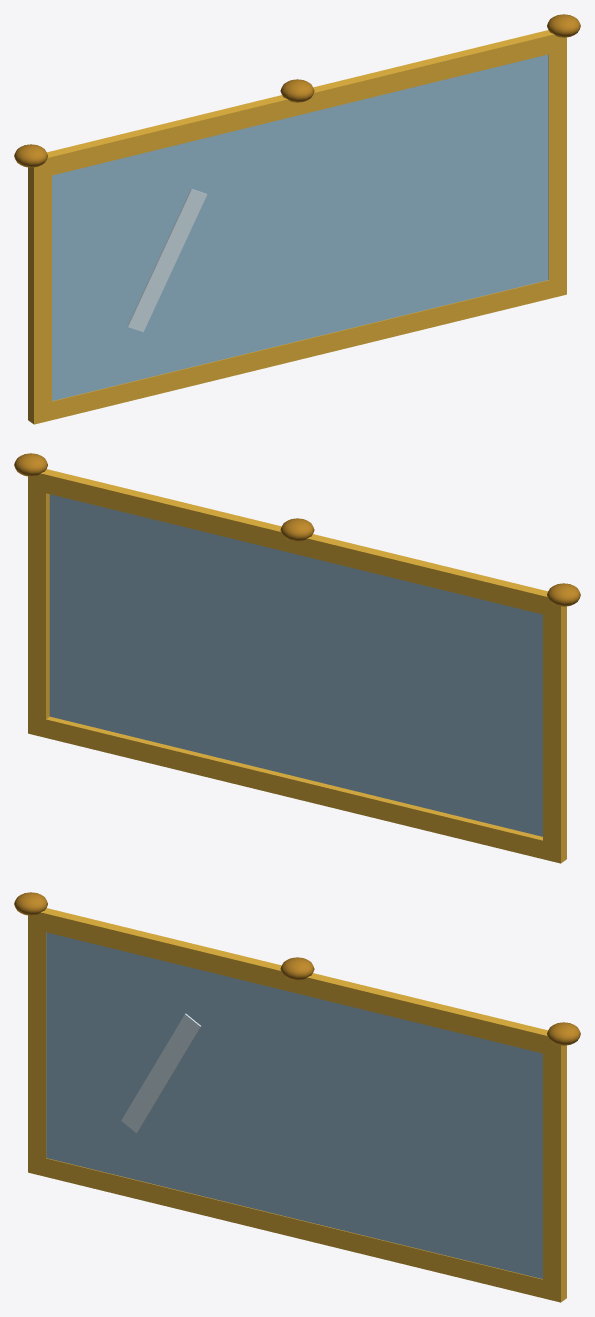
Rendered from mirror_wall.glb.
The picture shows the model from 3 angles, top to bottom: view 1: azimuth 30°, elevation 25°; view 2: azimuth 150°, elevation 25°; view 3: azimuth 330°, elevation 25°; orthographic projection.
Parts seen in each view (by area): view 1: root; view 2: root; view 3: root.
Part boxes in pixels (x1,y1,x2,y2): root: (14,14,580,424); root: (14,453,580,863); root: (14,892,580,1302).
Bounding box in the file's own units: 3.8 × 1.78 × 0.2.
